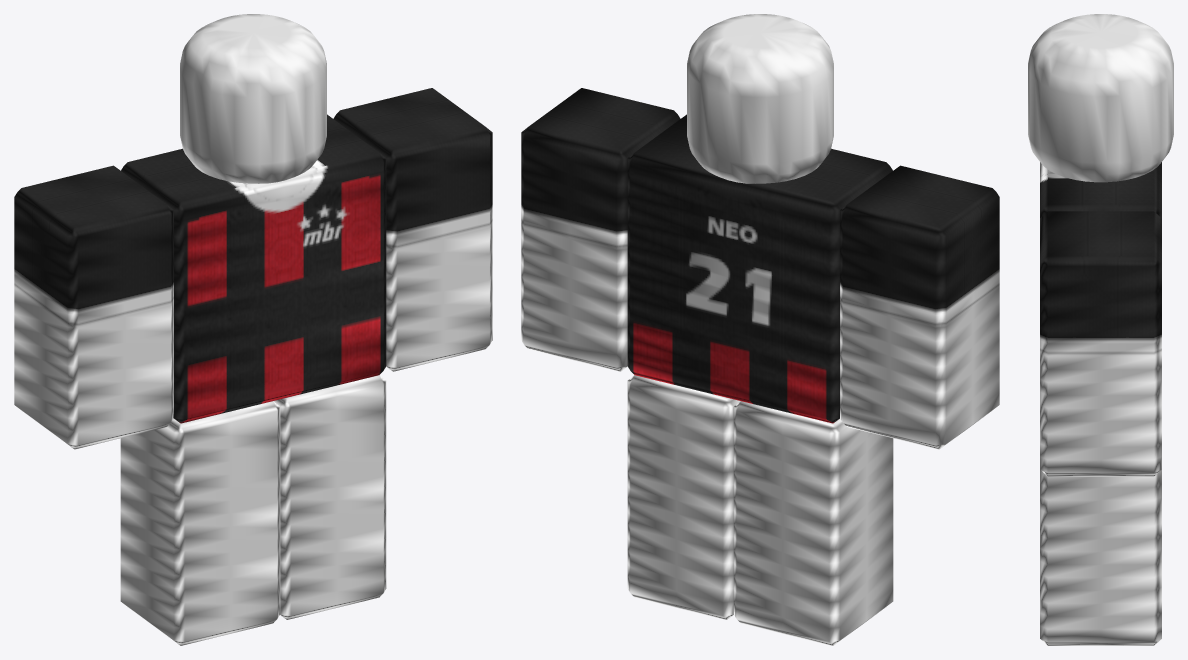
3 views of the same model, side by side, from view 1: azimuth 30°, elevation 25°; view 2: azimuth 150°, elevation 25°; view 3: azimuth 270°, elevation 25° (orthographic).
Parts seen in each view (by area): view 1: Torso, Right Arm, Right Leg, Left Arm, Left Leg, Head; view 2: Torso, Right Arm, Right Leg, Left Arm, Left Leg, Head; view 3: Left Arm, Head, Left Leg, Torso.
Part boxes in pixels (<box>): Torso: <box>121,114,386,423</box>; Right Arm: <box>14,165,173,449</box>; Right Leg: <box>120,401,280,645</box>; Left Arm: <box>333,88,492,371</box>; Left Leg: <box>273,375,386,619</box>; Head: <box>180,14,326,183</box>; Torso: <box>627,114,892,423</box>; Right Arm: <box>840,165,999,449</box>; Right Leg: <box>733,401,893,645</box>; Left Arm: <box>521,88,680,371</box>; Left Leg: <box>627,375,740,619</box>; Head: <box>687,14,833,183</box>; Left Arm: <box>1040,211,1161,476</box>; Head: <box>1028,14,1173,182</box>; Left Leg: <box>1040,470,1161,645</box>; Torso: <box>1040,162,1161,217</box>.
Bounding box in the file's own units: 4 × 5.12 × 1.2.
1 material, 1 textured.
